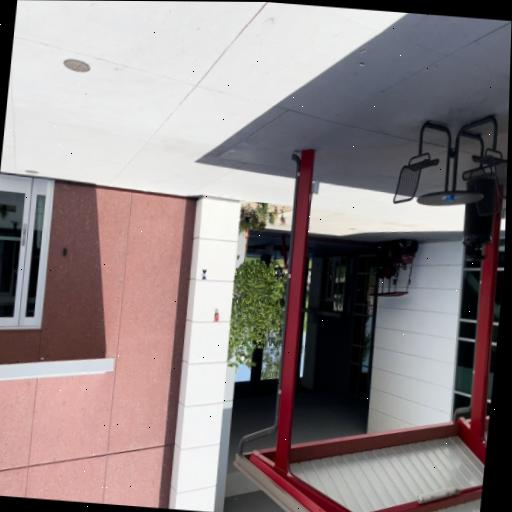target9: (200, 269, 208, 281)
